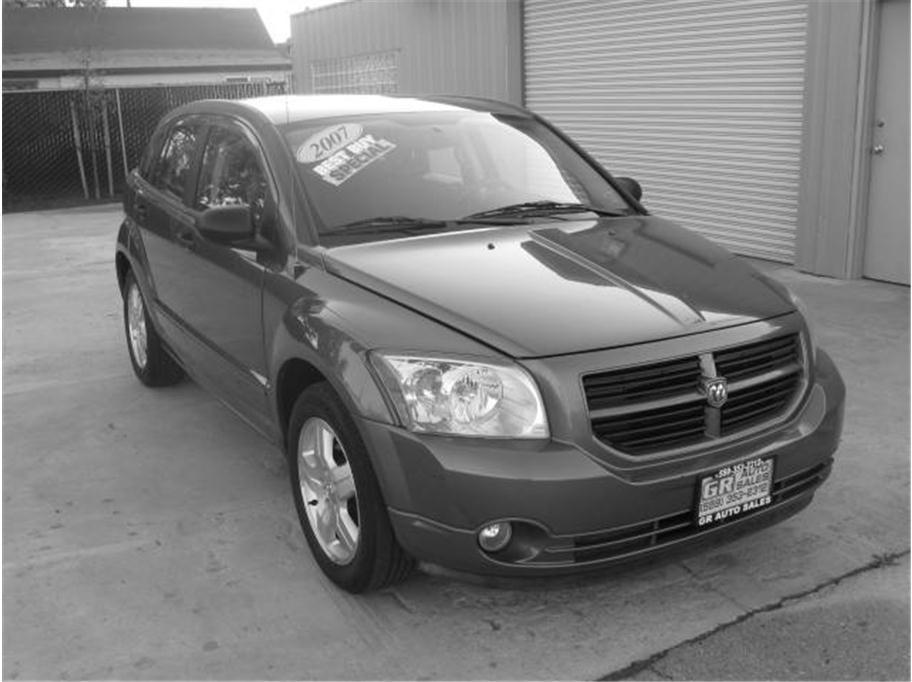car: (117, 95, 847, 596)
